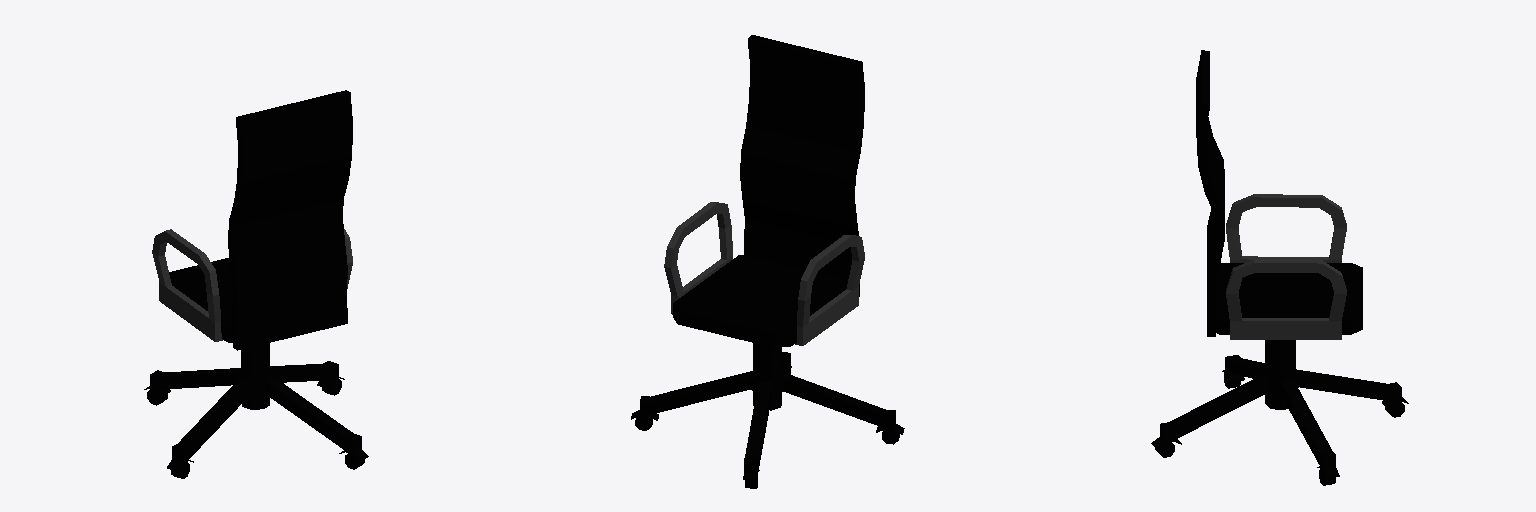
File: chair.obj
The picture shows the model from 3 angles: view 1: azimuth 30°, elevation 25°; view 2: azimuth 150°, elevation 25°; view 3: azimuth 270°, elevation 25°; orthographic projection.
Parts seen in each view (by area): view 1: chair; view 2: chair; view 3: chair.
Boxes of the visible parts, box(x1,y1,x2,y2) form: chair: box(144, 90, 368, 478); chair: box(631, 35, 904, 488); chair: box(1151, 50, 1408, 485).
Size of the model in its own units: 0.9016 by 1.38 by 0.8956.